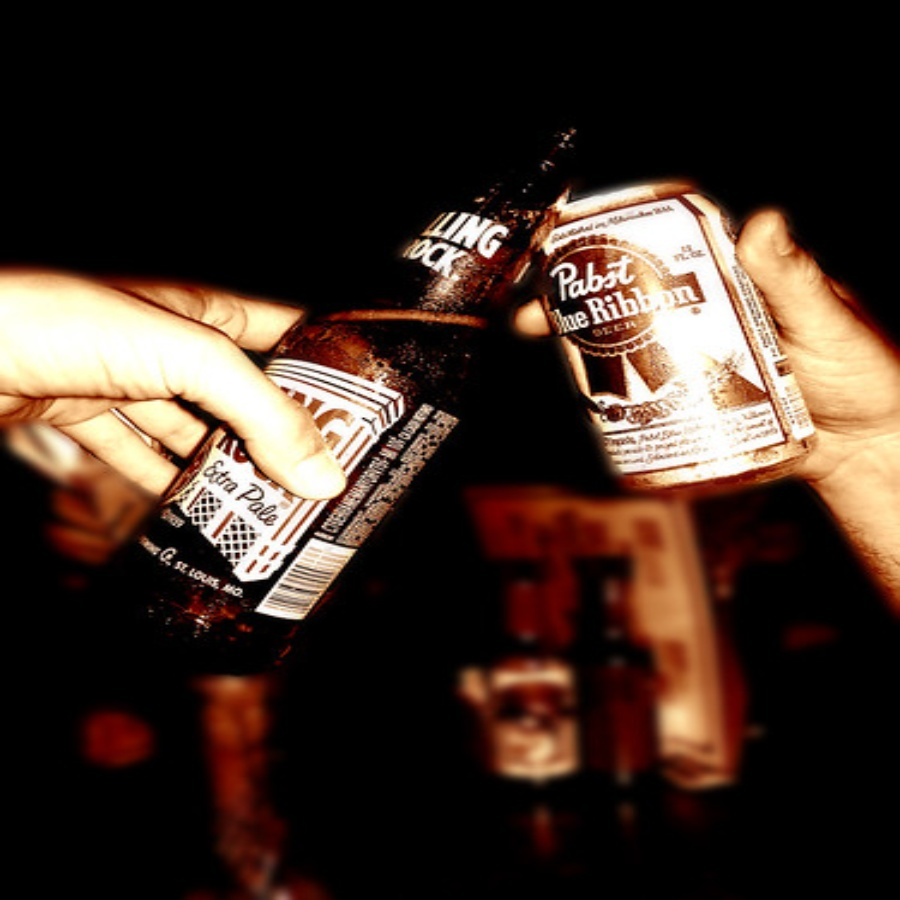beer: (131, 130, 560, 659)
